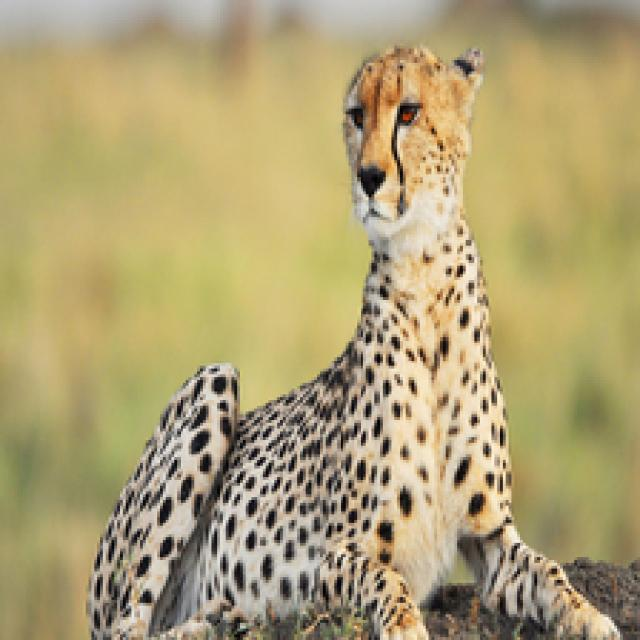cheetah: (62, 35, 640, 640)
